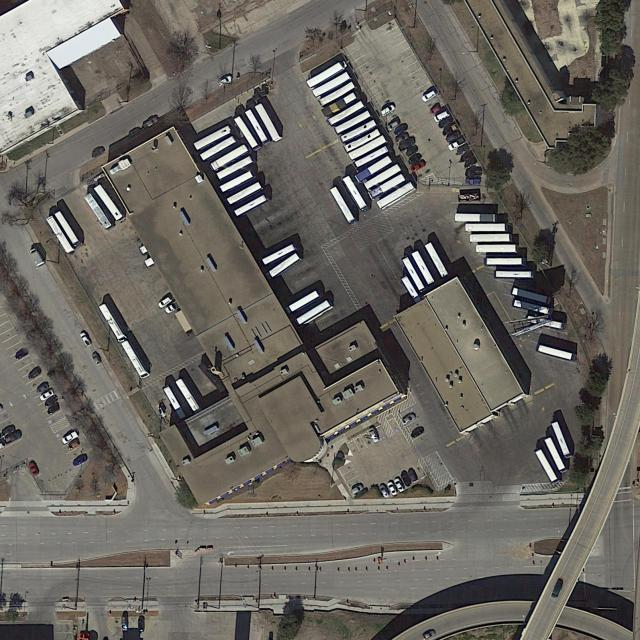large-vehicle: (83, 192, 116, 233), (294, 297, 336, 328), (98, 301, 128, 344), (94, 183, 126, 223), (354, 154, 395, 185), (306, 60, 347, 91), (368, 171, 410, 201), (327, 98, 369, 128), (312, 70, 354, 100), (376, 180, 416, 211), (363, 162, 404, 192), (120, 339, 150, 380), (253, 102, 283, 143), (348, 133, 390, 162), (400, 254, 429, 295), (53, 210, 83, 249), (209, 143, 249, 172), (46, 215, 75, 255), (193, 123, 234, 151), (216, 154, 257, 182), (342, 174, 371, 213), (318, 79, 357, 108), (232, 114, 261, 153), (353, 145, 393, 173), (334, 109, 374, 137), (199, 134, 239, 162), (330, 186, 358, 225), (285, 288, 325, 315), (175, 377, 203, 415), (340, 118, 379, 145), (244, 108, 271, 147), (342, 128, 382, 154), (321, 91, 359, 118), (225, 180, 263, 207), (162, 383, 188, 421), (267, 251, 302, 279), (544, 436, 569, 474), (219, 169, 257, 194), (261, 242, 299, 267), (534, 447, 560, 483), (410, 249, 436, 285), (233, 193, 269, 219), (424, 241, 449, 278), (551, 420, 573, 460), (536, 342, 577, 362), (511, 286, 552, 305), (512, 299, 553, 317), (400, 273, 423, 305), (526, 314, 565, 330), (470, 233, 513, 244), (485, 256, 527, 267), (476, 244, 519, 254), (495, 270, 535, 280), (455, 212, 495, 222), (466, 223, 509, 232)
small-vehicle: (27, 245, 45, 268), (2, 429, 23, 446), (60, 428, 79, 446), (397, 136, 418, 152), (447, 136, 467, 152), (164, 299, 184, 315), (550, 578, 565, 599), (433, 108, 452, 124), (441, 121, 459, 137), (216, 73, 234, 89), (43, 393, 61, 409), (71, 452, 89, 468), (409, 424, 426, 440), (445, 129, 463, 144), (437, 115, 455, 130), (410, 159, 427, 174), (379, 102, 396, 117), (420, 89, 437, 104), (400, 412, 418, 426), (399, 470, 413, 488), (79, 330, 93, 348), (392, 122, 410, 136), (157, 295, 173, 310), (14, 346, 30, 361), (39, 388, 55, 403), (377, 483, 391, 500), (368, 426, 381, 444), (27, 460, 40, 478), (460, 149, 475, 164), (463, 155, 478, 170), (35, 381, 50, 396), (128, 125, 144, 139), (455, 142, 471, 156), (46, 402, 62, 416), (90, 146, 107, 159), (404, 144, 419, 158), (465, 168, 484, 179), (407, 152, 423, 165), (393, 478, 406, 494), (385, 119, 401, 132), (349, 483, 364, 496), (66, 439, 81, 452), (407, 467, 419, 483), (393, 132, 409, 144), (26, 368, 40, 381), (428, 104, 442, 117), (387, 481, 398, 497), (144, 116, 158, 128), (91, 352, 102, 367), (465, 177, 481, 186), (121, 616, 128, 631), (139, 618, 145, 633)
